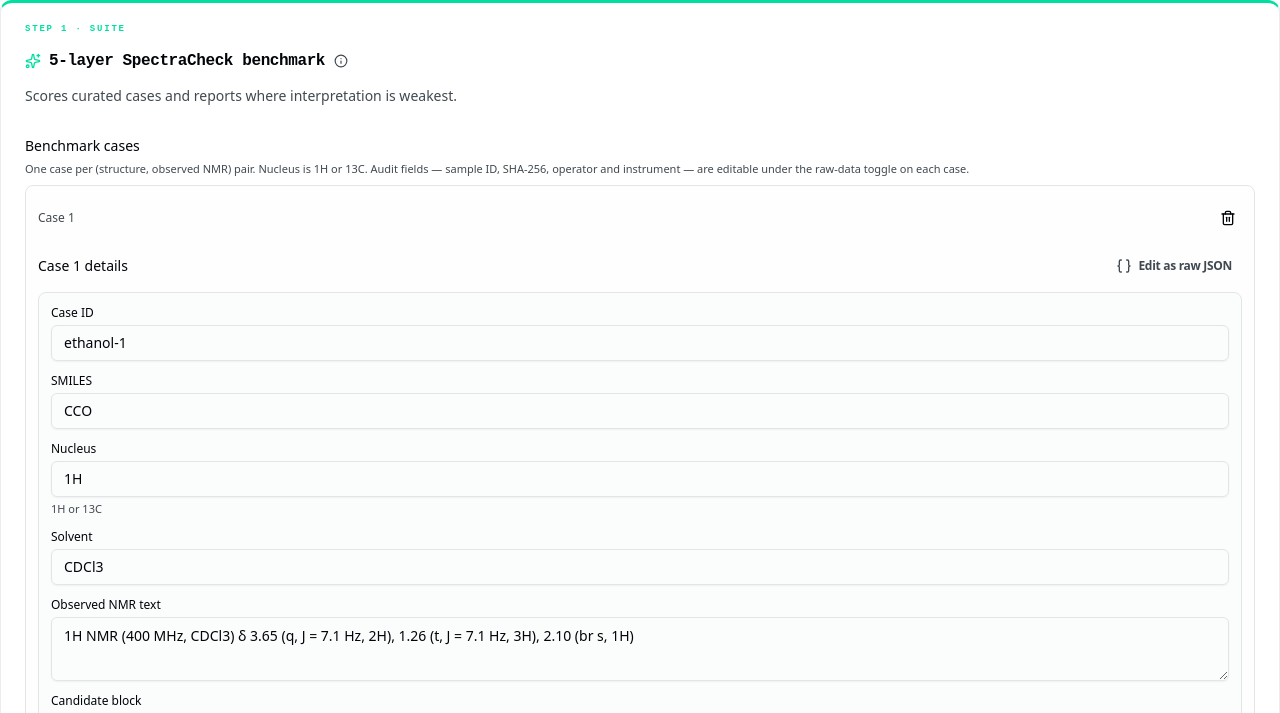
it: SpectraCheckBenchmarkSection › rejects running with no cases before calling the backend
Click the button named "Remove Case 1" at [1228, 218], box [1214,198,1242,238]
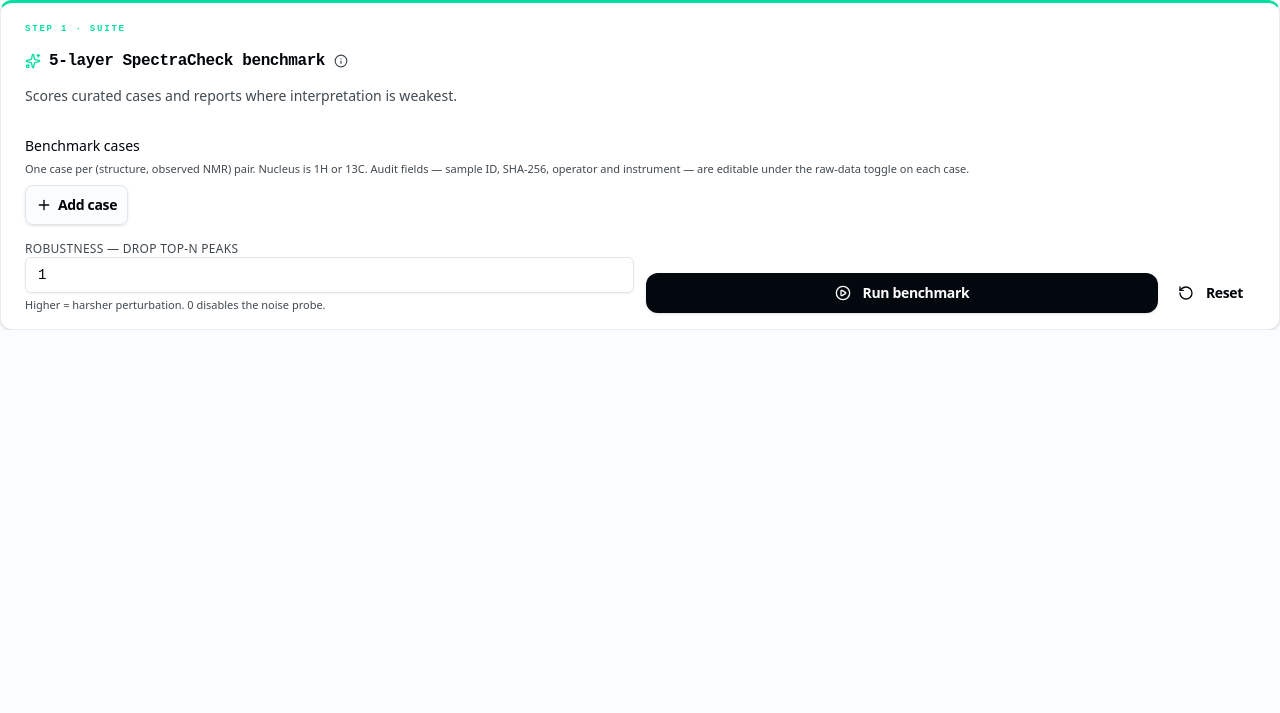
Click the button with test id "benchmark-run-button" at [902, 293], box [646,273,1158,313]
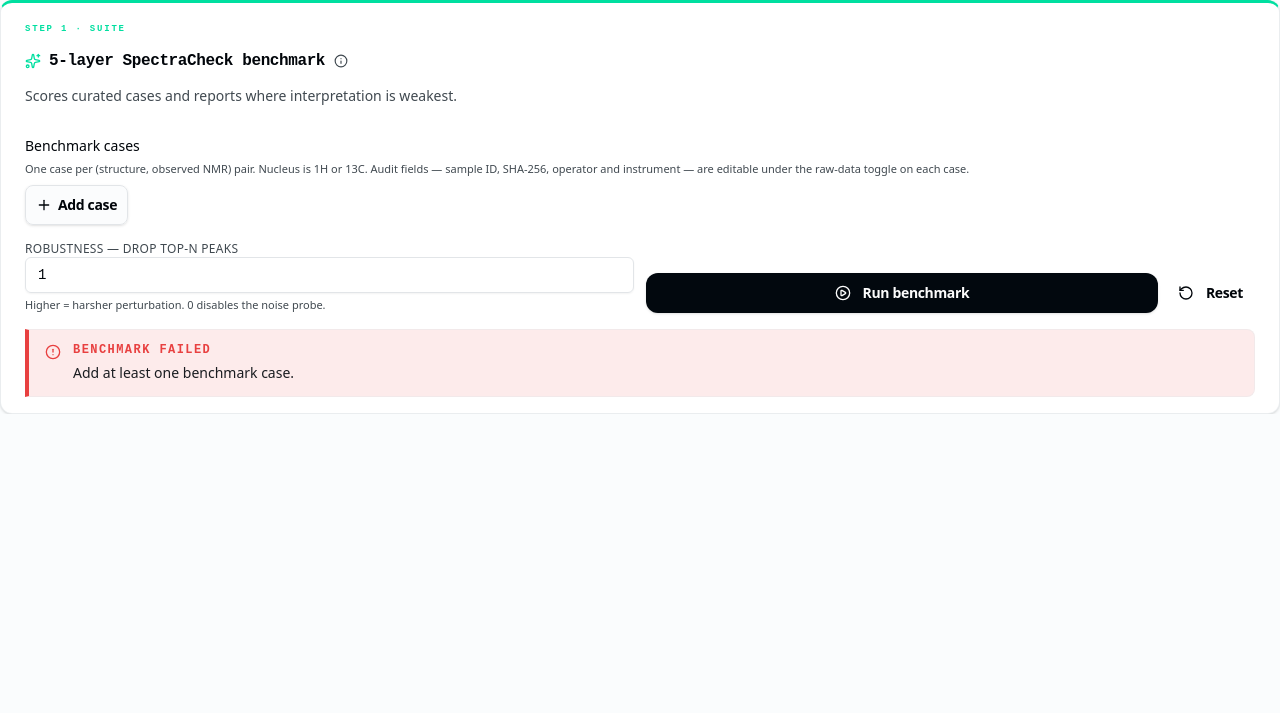
Now the text "Add at least one benchmark case." is shown, box [73,362,294,384]
